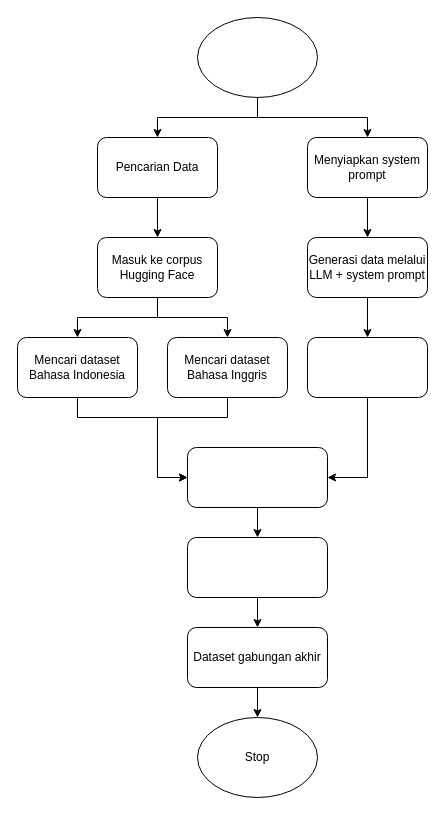
The diagram is 445 pixels wide and 815 high, and some of its shapes have lost their labels. Each missing label, with the box of its shape:
Mengumpulkan ketiga dataset: (186, 446, 328, 508)
Pelabelan via LLM: (306, 336, 428, 398)
Pra-pemrosesan data: (186, 536, 328, 598)
Start: (196, 16, 318, 98)
